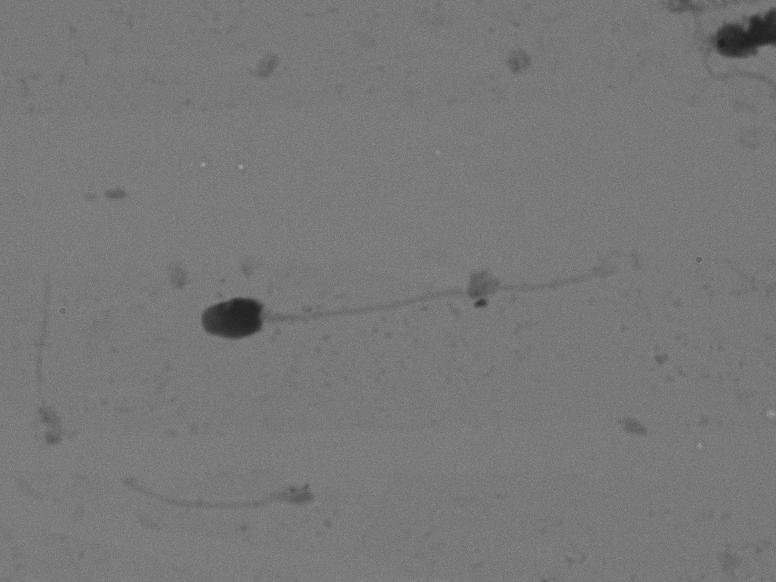Abnormal: (173, 222, 646, 394)
